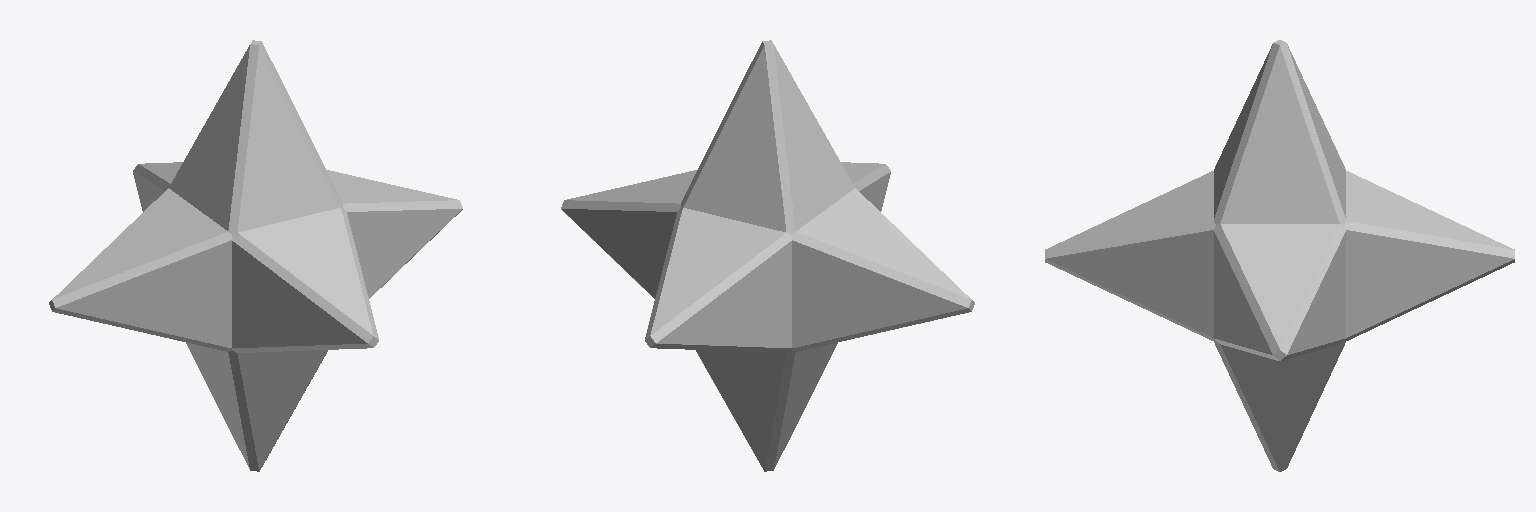
File: max_revive.obj
3 renders of one model, left to right at view 1: azimuth 30°, elevation 25°; view 2: azimuth 150°, elevation 25°; view 3: azimuth 270°, elevation 25°, orthographic.
Visible parts, largest first — view 1: revive-pokemon-go-max-revive-max-revive; view 2: revive-pokemon-go-max-revive-max-revive; view 3: revive-pokemon-go-max-revive-max-revive.
Part boxes in pixels (x1,y1,x2,y2): revive-pokemon-go-max-revive-max-revive: (49,40,462,471); revive-pokemon-go-max-revive-max-revive: (561,40,974,471); revive-pokemon-go-max-revive-max-revive: (1045,40,1514,471).
Bounding box in the file's own units: 7.52 × 7.52 × 7.52.